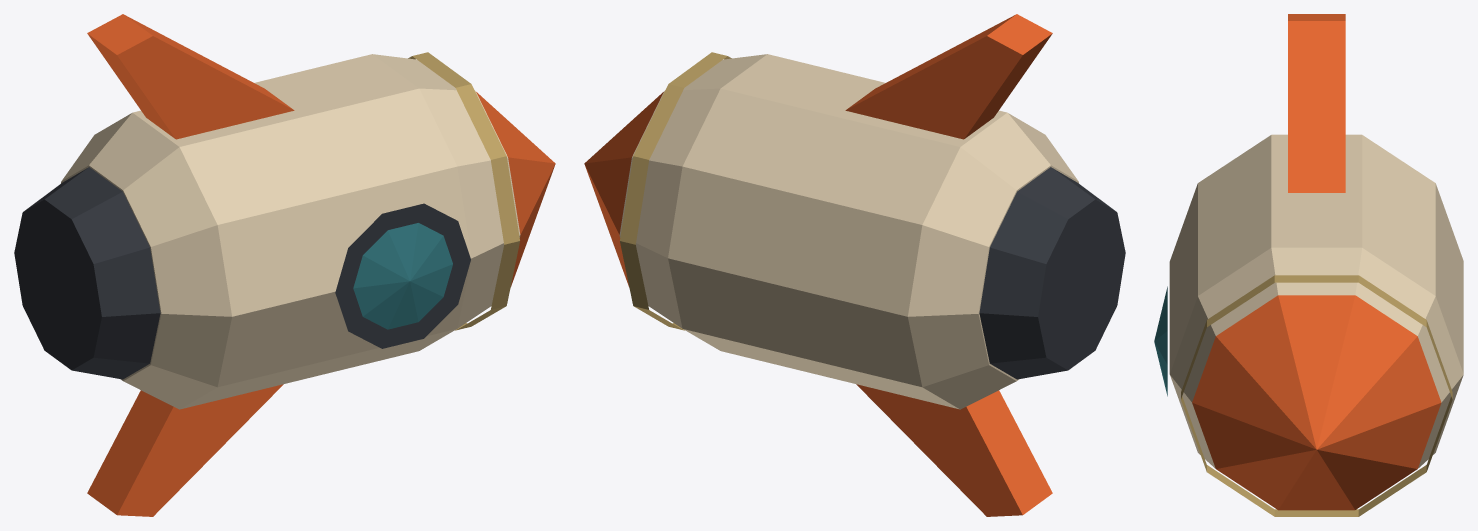
Rendered from rocket-lowpoly.glb.
3 renders of one model, left to right at view 1: azimuth 30°, elevation 25°; view 2: azimuth 150°, elevation 25°; view 3: azimuth 270°, elevation 25°, orthographic. The views are drawn at different scales.
Visible parts, largest first — view 1: RocketLowPoly; view 2: RocketLowPoly; view 3: RocketLowPoly.
Part boxes in pixels (x1=…): RocketLowPoly: x1=14, y1=14, x2=555, y2=516; RocketLowPoly: x1=584, y1=14, x2=1125, y2=516; RocketLowPoly: x1=1154, y1=14, x2=1463, y2=516.
Size of the model in its own units: 2.49 by 2.3 by 1.39.
